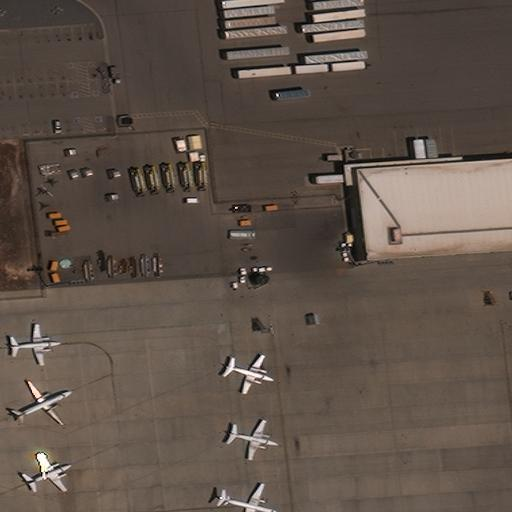Medium Civil Transport: (14, 381, 71, 423), (218, 484, 279, 511)
Small Civil Transport: (8, 323, 61, 364), (227, 421, 278, 459), (224, 356, 274, 393), (27, 453, 72, 488)
